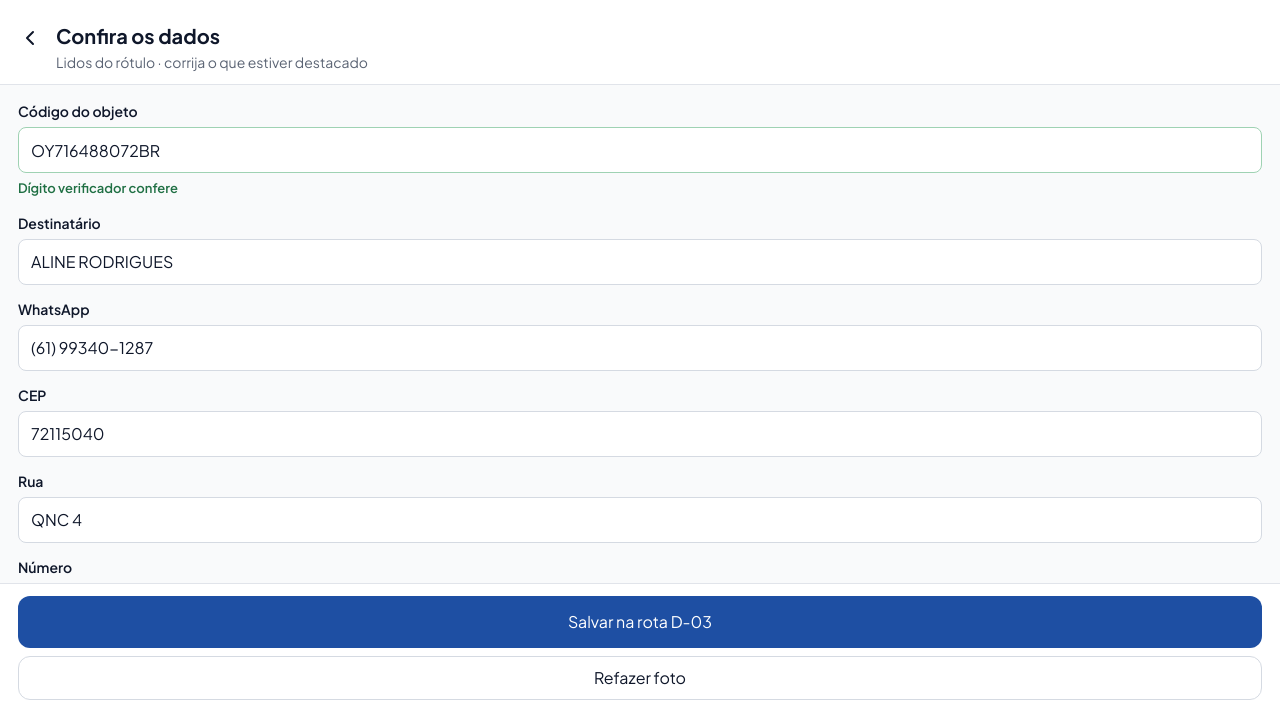
ConferirPage › UT-095 WhatsApp "98876-1102" → "Número incompleto: corrija ou deixe em branco"
Expected: the heading "Confira os dados" is shown, top-left (56, 23), bottom-right (220, 48)
Replace the text in the field labelled "WhatsApp" with "98876-1102": coordinates (640, 348) top-left (18, 324), bottom-right (1262, 370)
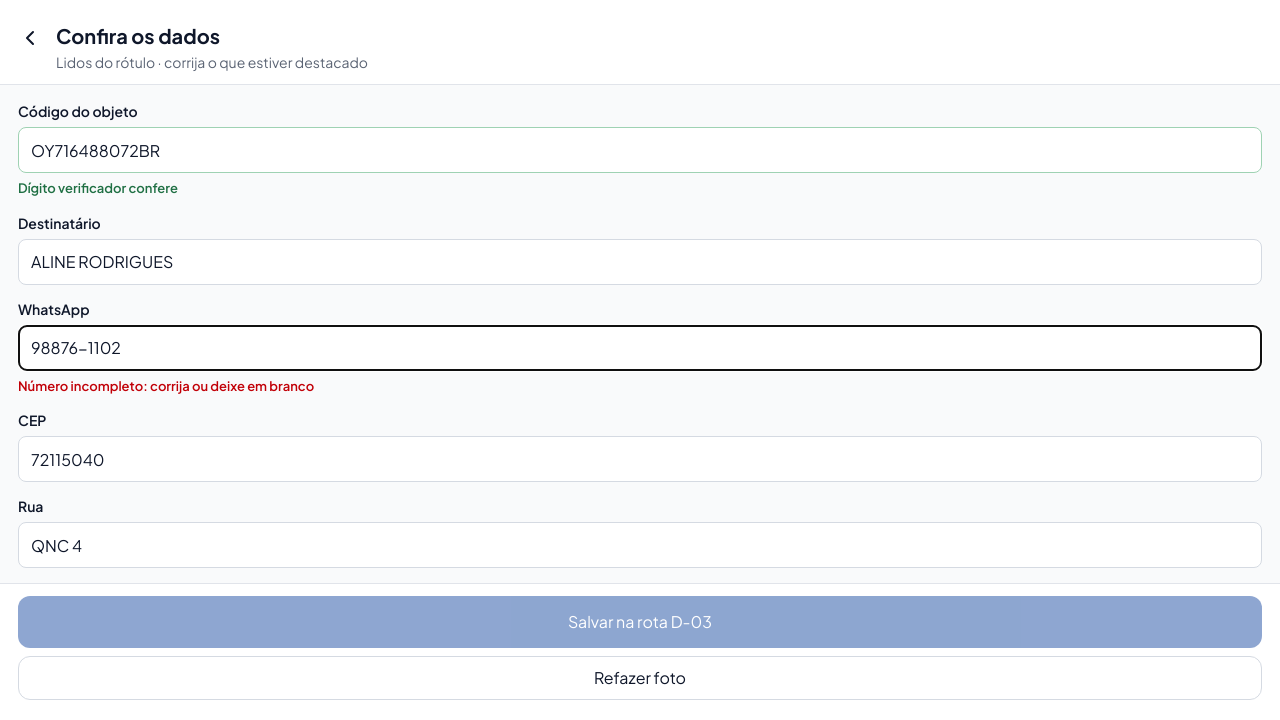
Expected: the text "Número incompleto: corrija ou deixe em branco" is shown, top-left (18, 378), bottom-right (314, 394)
Expected: the button "Salvar na rota D-03" is disabled, top-left (18, 596), bottom-right (1262, 648)
